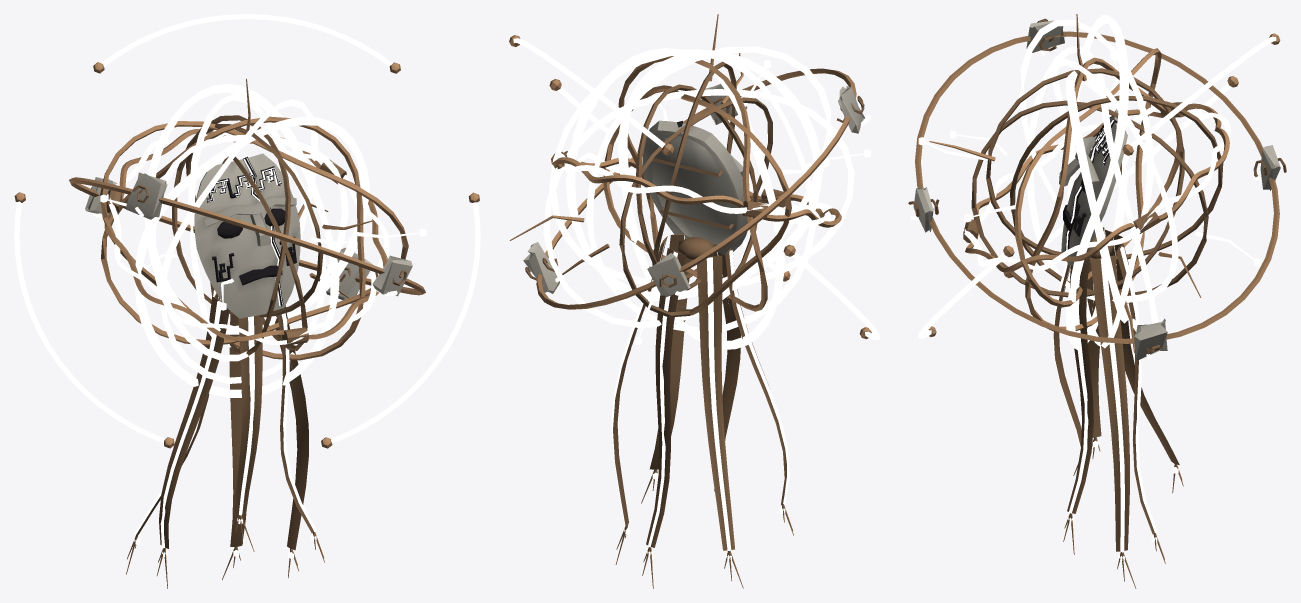
Rendered from heartwire_wraith.glb.
3 renders of one model, left to right at view 1: azimuth 30°, elevation 25°; view 2: azimuth 150°, elevation 25°; view 3: azimuth 270°, elevation 25°, orthographic.
Parts seen in each view (by area): view 1: core, ribbons, ring_2, ring_1, ring_3; view 2: core, ribbons, ring_2, ring_1, ring_3; view 3: core, ribbons, ring_2, ring_1, ring_3.
Boxes of the visible parts, x1,y1,x2,y2 form: core: (99,78,426,397); ribbons: (126,290,324,588); ring_2: (69,172,425,304); ring_1: (104,129,389,345); ring_3: (14,14,480,448); core: (509,14,870,349); ribbons: (611,234,793,588); ring_2: (523,68,871,309); ring_1: (551,151,841,227); ring_3: (509,35,879,339); core: (918,14,1261,352); ribbons: (1052,227,1183,588); ring_2: (908,18,1286,361); ring_1: (963,102,1231,273); ring_3: (918,33,1280,338).
Bounding box in the file's own units: 1.13 × 1.55 × 0.9825.
